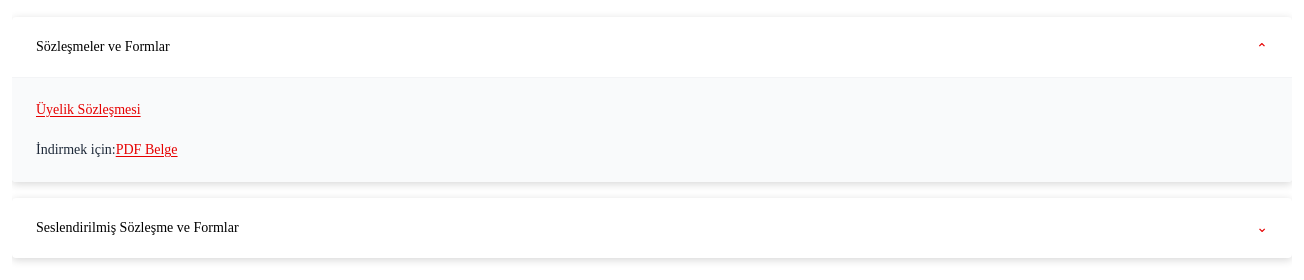
SozlesmelerAccordion › switches open group on click
Click the button "Seslendirilmiş Sözleşme ve Formlar ⌄". click: coordinates (137, 228)
box: [12,198,1292,258]
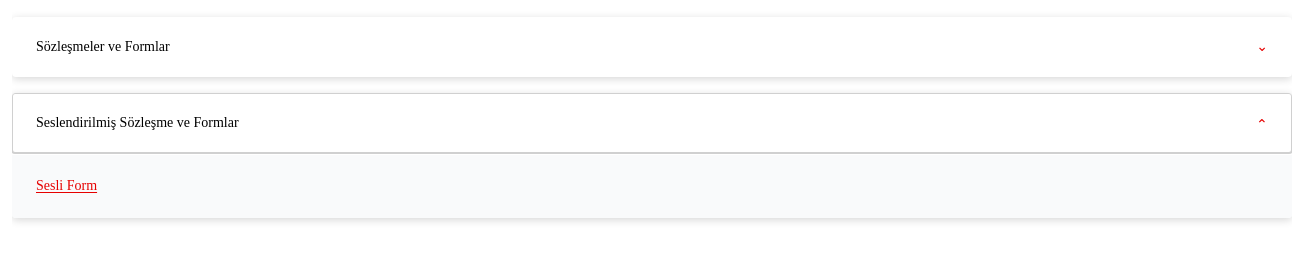
Result: the link "Sesli Form" is shown at [36,178,97,193]
Result: the link "Üyelik Sözleşmesi" is gone
